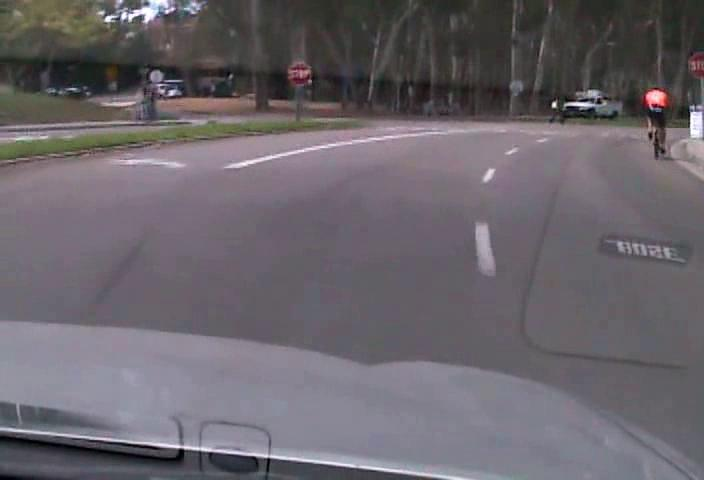stop: (286, 61, 311, 86)
